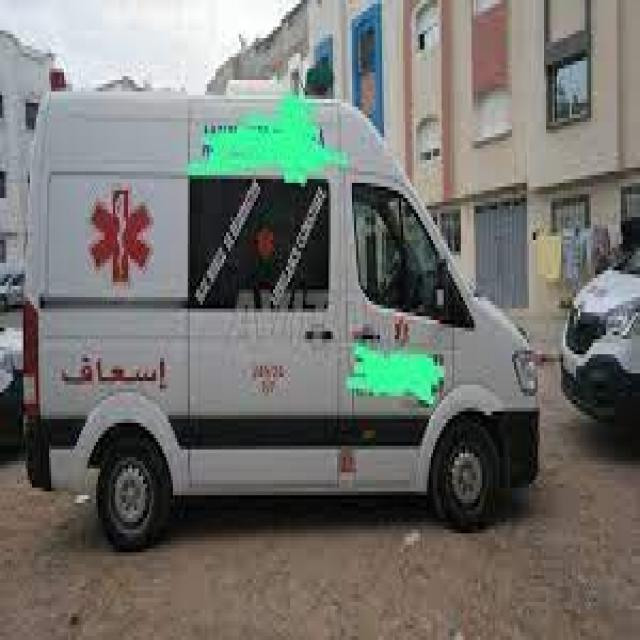ambulance: (22, 85, 544, 551)
